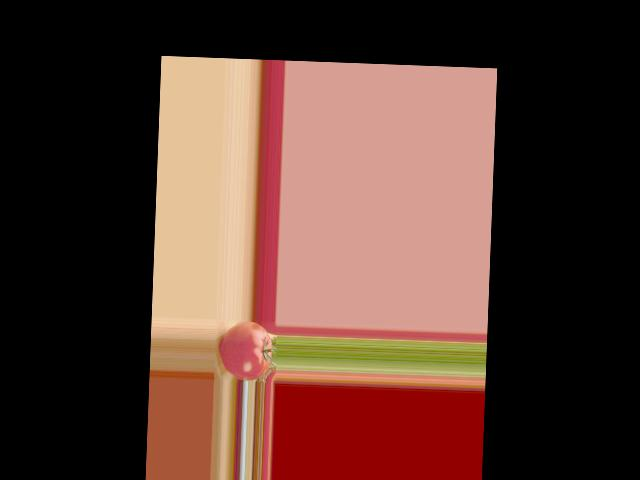tomato: (219, 320, 273, 381)
